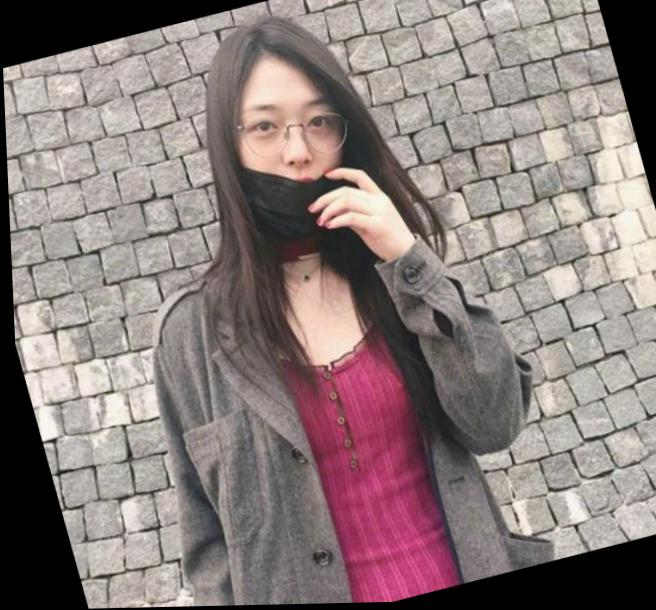WRONG: (208, 79, 374, 259)
